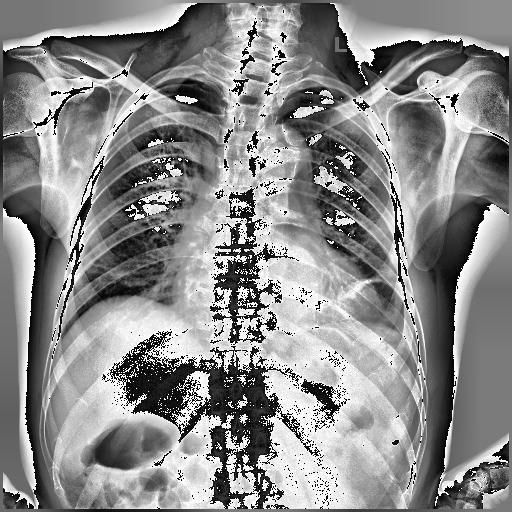0- Aortic enlargement: (250, 127, 316, 210), (252, 123, 314, 187), (254, 126, 313, 188)
10- Pleural effusion: (394, 316, 420, 350)
11- Pleural thickening: (394, 316, 420, 350)
13- Pulmonary fibrosis: (332, 274, 391, 300), (355, 274, 385, 284), (356, 276, 390, 284)
3- Cardiomegaly: (171, 232, 381, 322), (170, 274, 382, 323), (170, 274, 381, 318)
